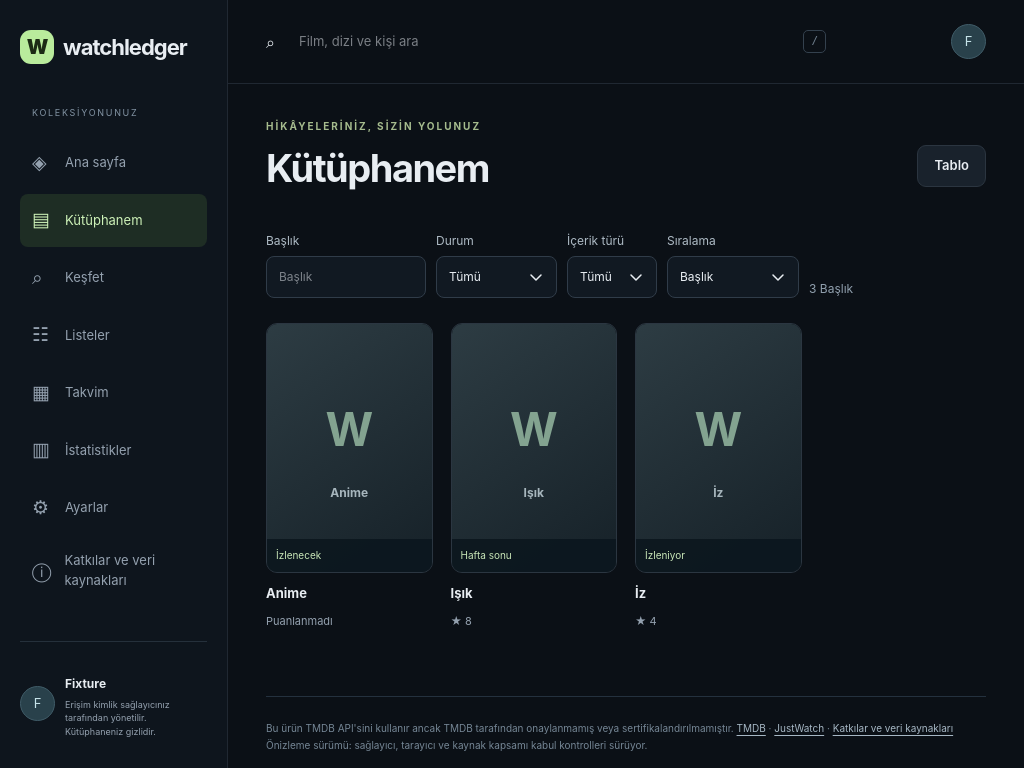
it: library custom and base filters coexist and Turkish search respects dotted/dotless I
Check: the link "W Işık Hafta sonu Işık ★ 8" is shown, box [450,323,617,632]
Select "İzleniyor" in the dropdown labelled "Durum" at [496, 277], box [436,256,557,298]
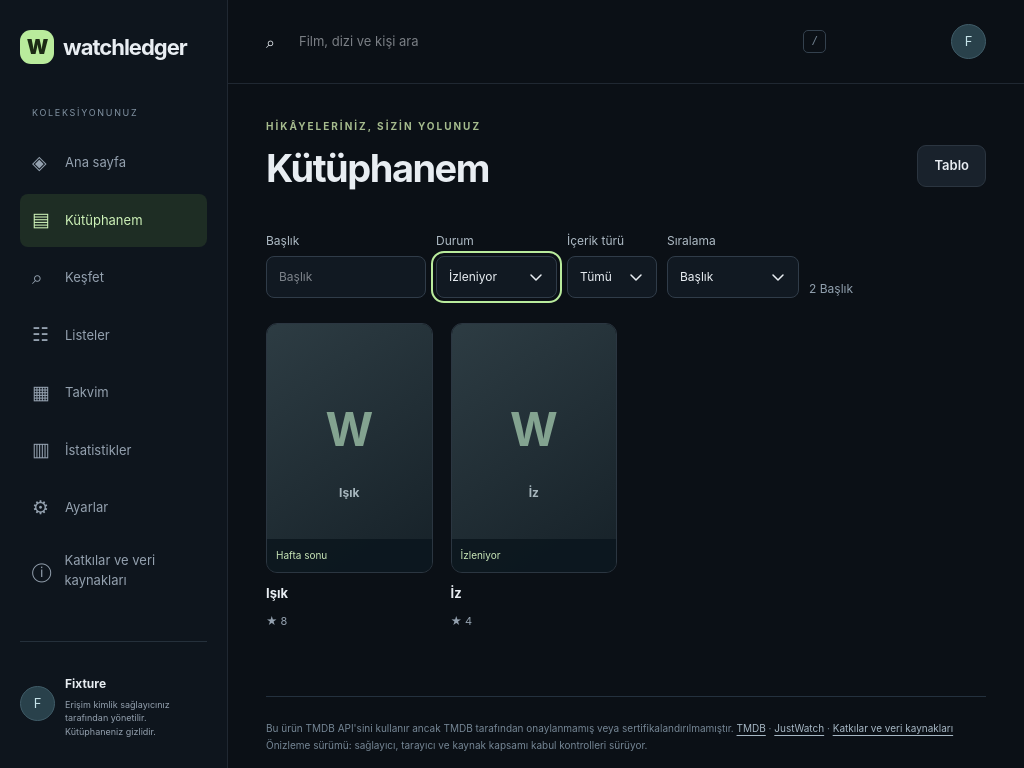
Check: the link "W Işık Hafta sonu Işık ★ 8" is shown, box [266,323,432,632]
Check: the link "Anime" is gone
Select "Hafta sonu" in the dropdown labelled "Durum" at [496, 277], box [436,256,557,298]
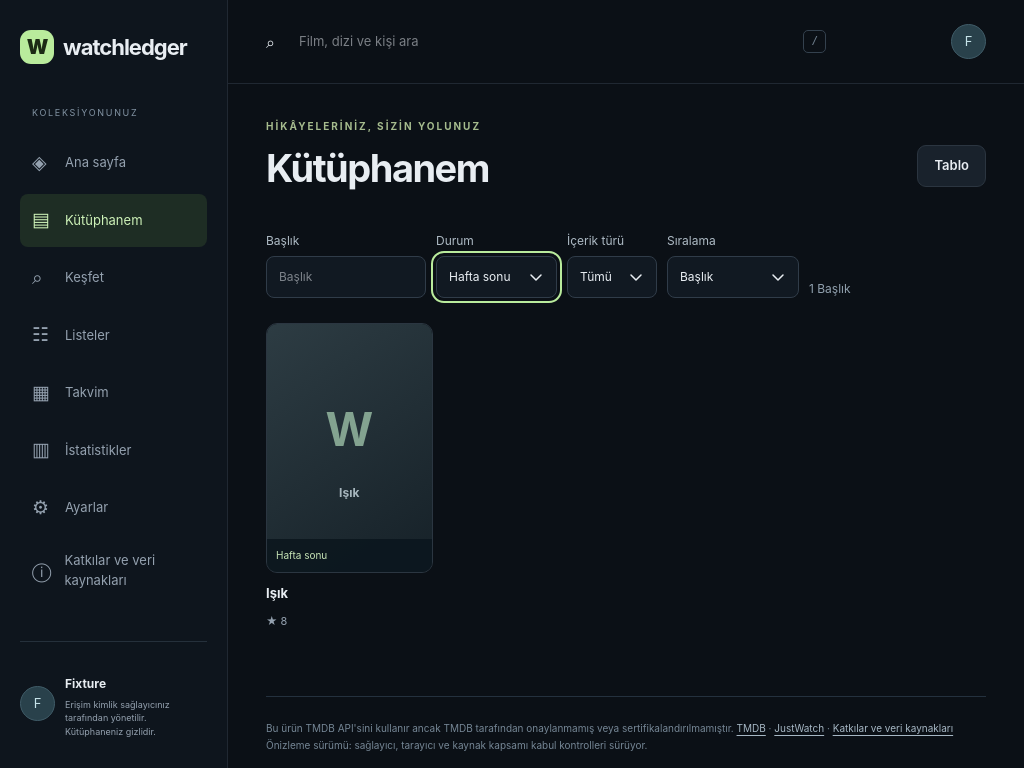
Type " ışık " into the field named "Film, dizi ve kişi ara" at [346, 277], box [266,256,426,298]
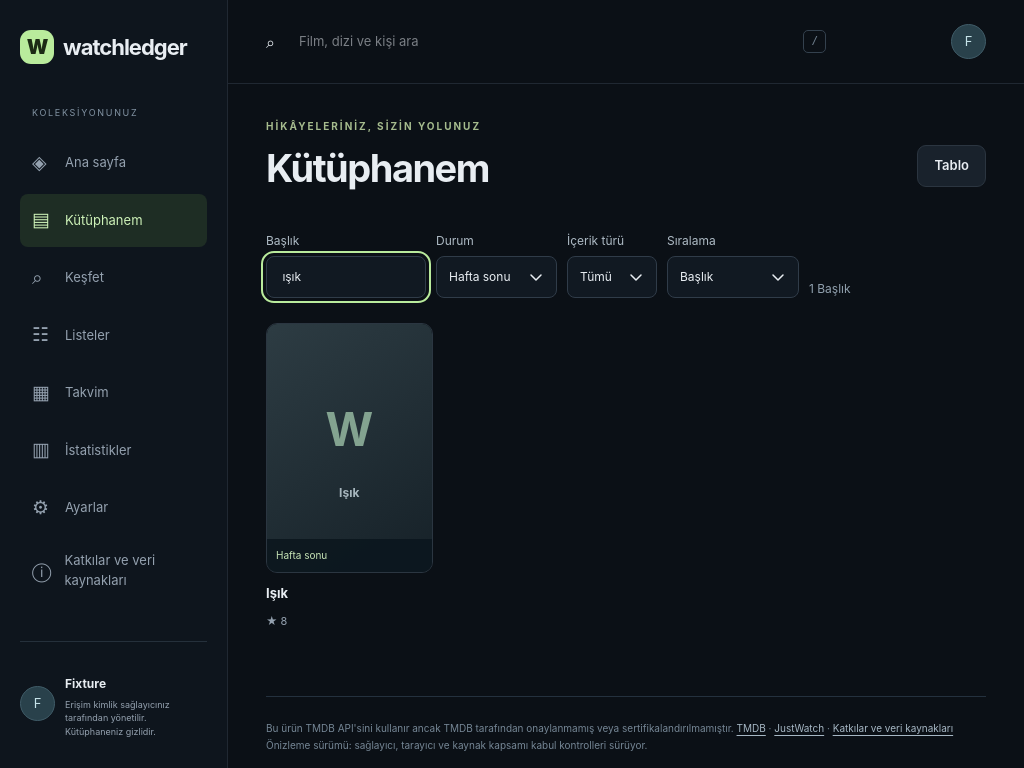
Check: the link "W Işık Hafta sonu Işık ★ 8" is shown, box [266,323,432,632]
Select "Anime" in the dropdown labelled "İçerik türü" at [612, 277], box [567,256,657,298]
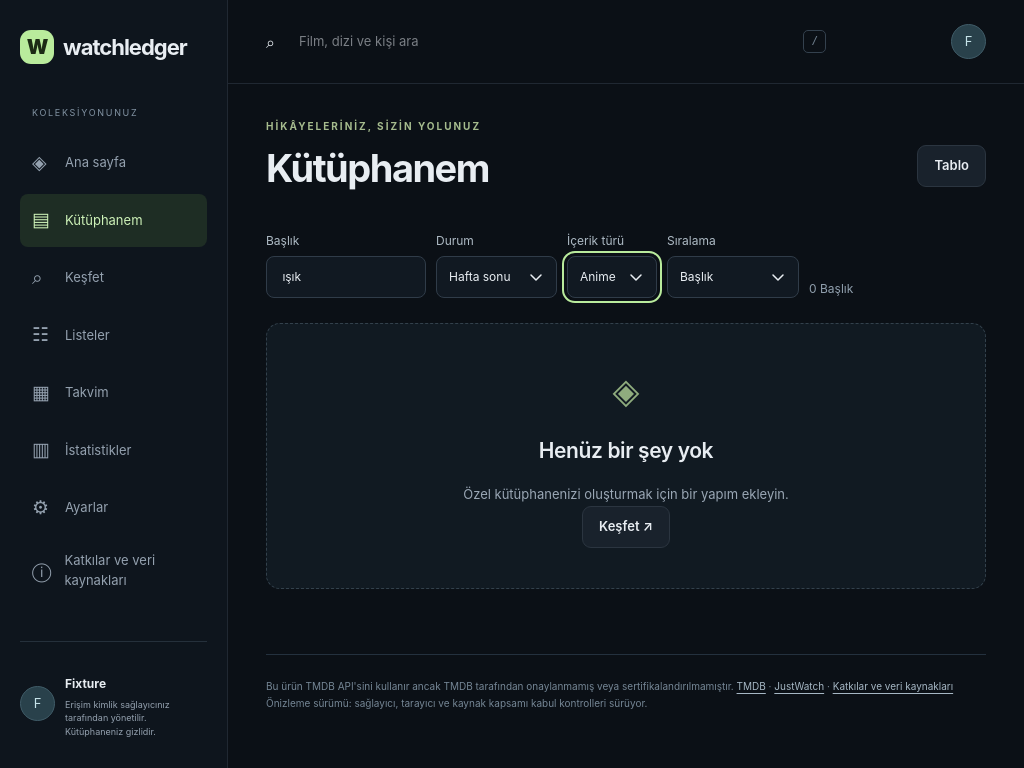
Check: the link "Işık" is gone
